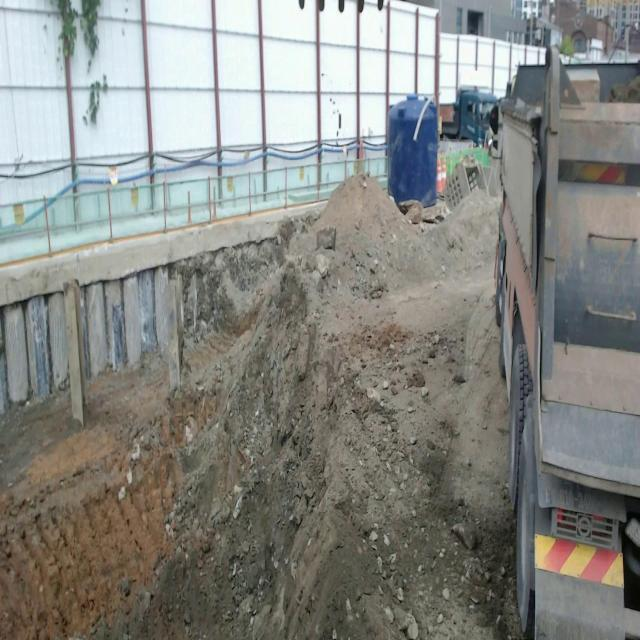red-sand: (0, 179, 521, 639)
